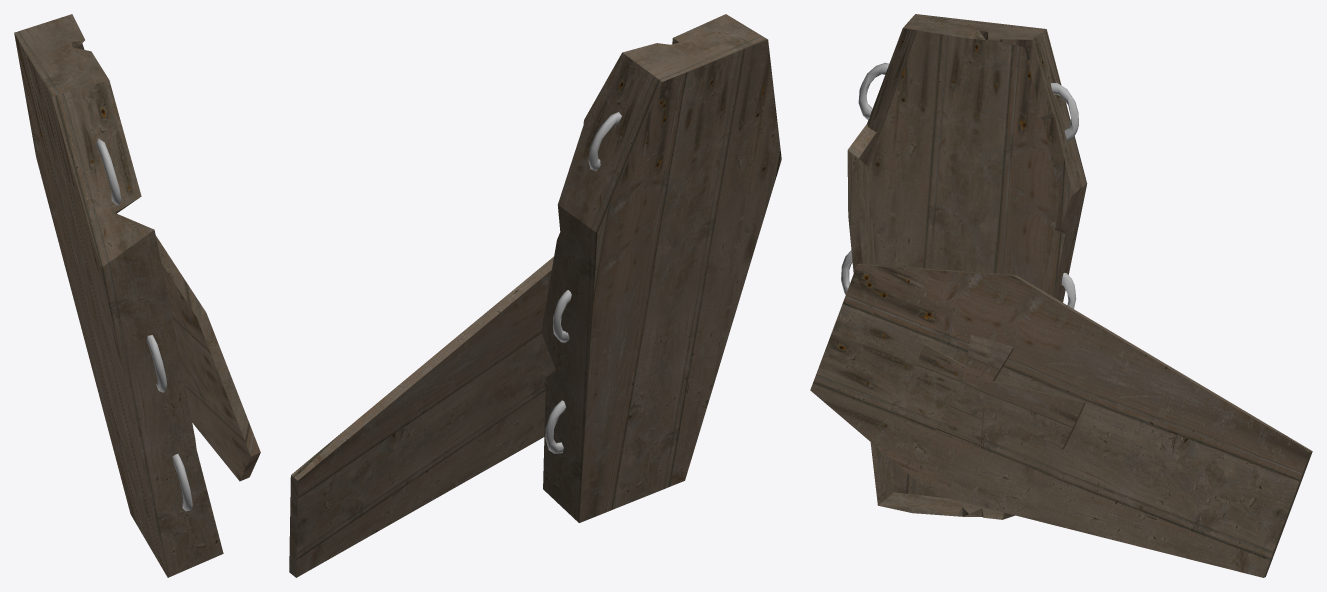
The model's file is Caixão.glb.
The picture shows the model from 3 angles, left to right: view 1: azimuth 30°, elevation 25°; view 2: azimuth 150°, elevation 25°; view 3: azimuth 270°, elevation 25°; orthographic projection. The views are drawn at different scales.
Visible parts, largest first — view 1: Caixao.001; view 2: Caixao.001; view 3: Caixao.001.
Boxes of the visible parts, bbox=[...] form: Caixao.001: bbox=[14, 14, 260, 577]; Caixao.001: bbox=[289, 14, 781, 577]; Caixao.001: bbox=[810, 14, 1312, 577].
Bounding box in the file's own units: 1.24 × 1.98 × 1.99.
Materials: 2 (1 with a texture image).
